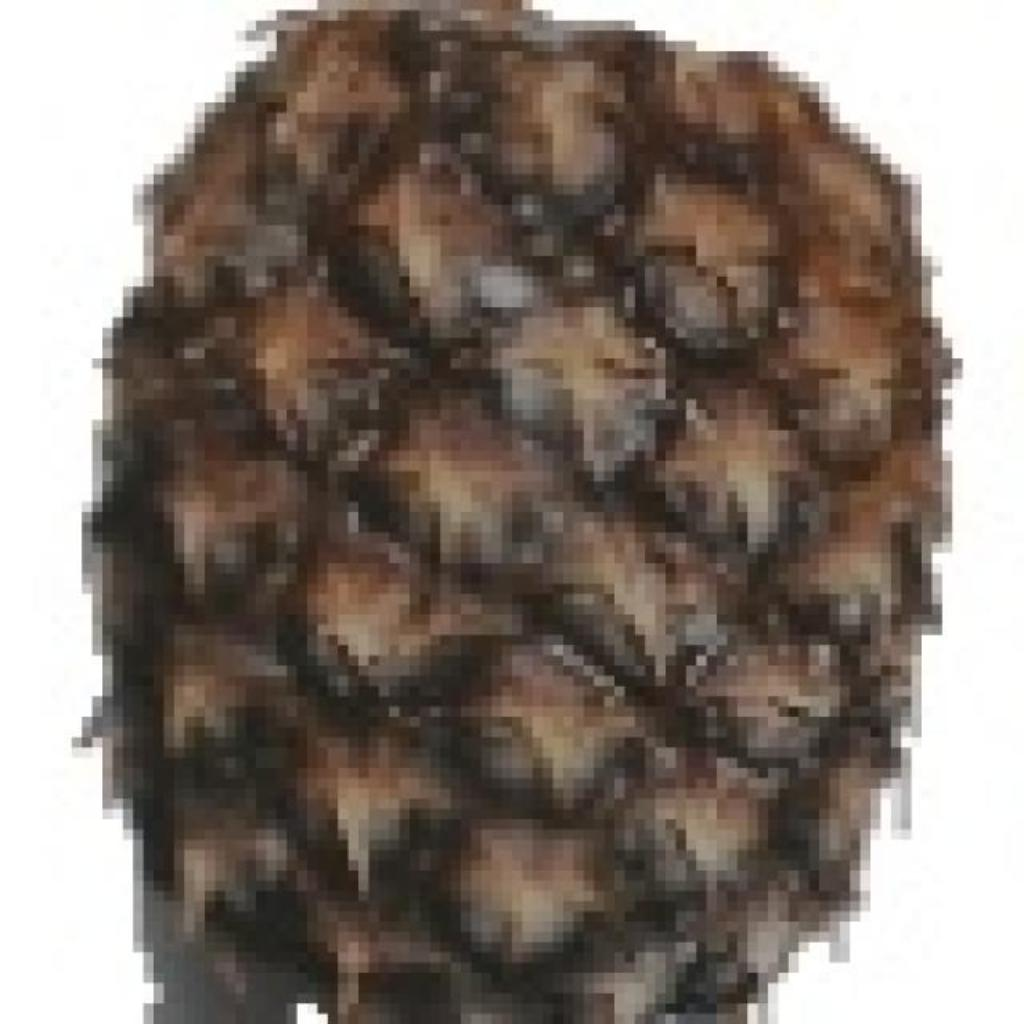pineapple: (92, 0, 952, 1024)
